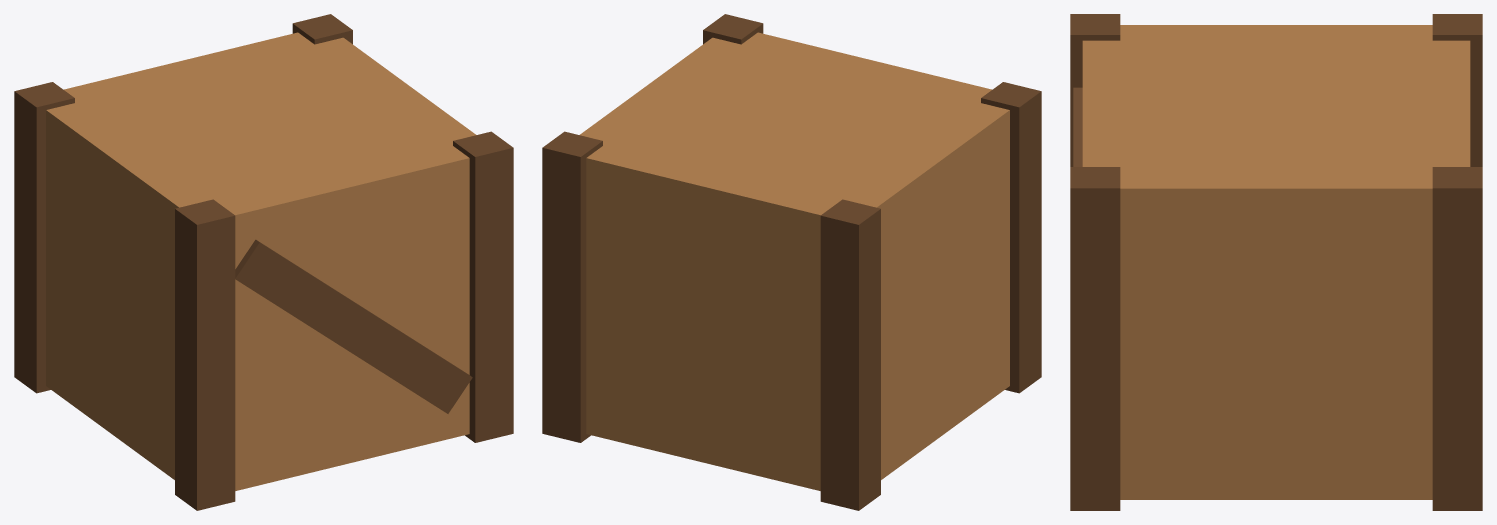
File: prop_crate.glb
3 renders of one model, left to right at view 1: azimuth 30°, elevation 25°; view 2: azimuth 150°, elevation 25°; view 3: azimuth 270°, elevation 25°, orthographic. The views are drawn at different scales.
Visible parts, largest first — view 1: Prop_Crate; view 2: Prop_Crate; view 3: Prop_Crate.
Part boxes in pixels (box(x1,y1,x2,y2)): Prop_Crate: box(14, 14, 513, 510); Prop_Crate: box(542, 14, 1041, 510); Prop_Crate: box(1070, 14, 1482, 510).
Size of the model in its own units: 0.66 by 0.57 by 0.66.
